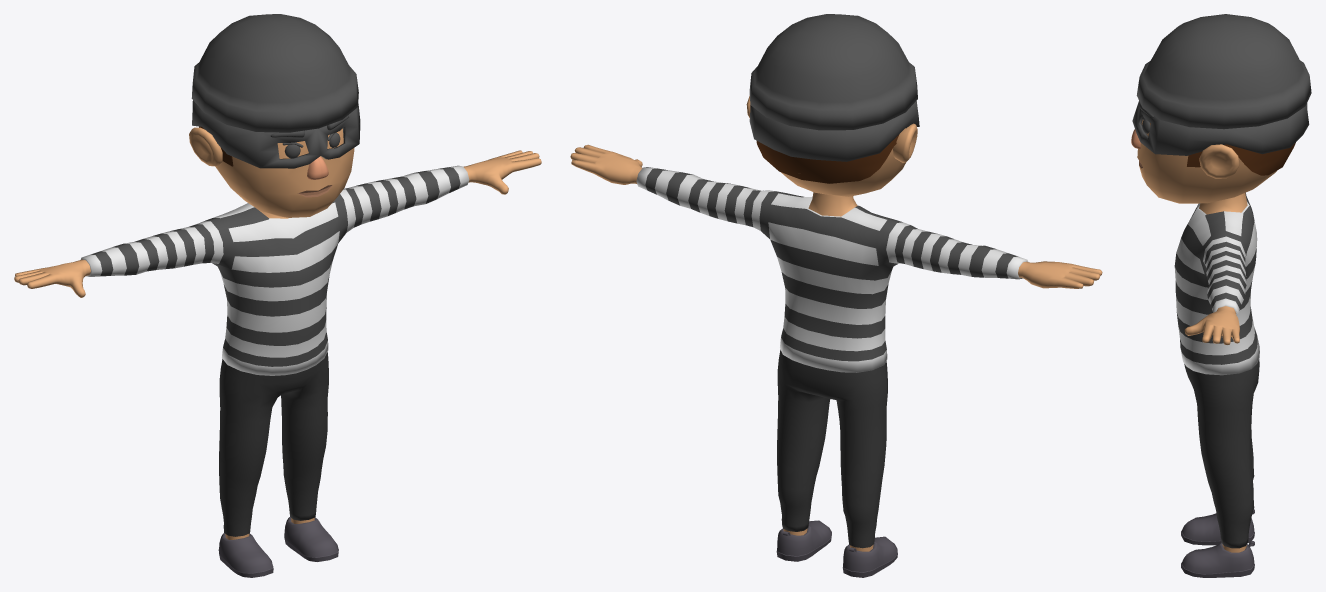
The model's file is thief.glb.
3 renders of one model, left to right at view 1: azimuth 30°, elevation 25°; view 2: azimuth 150°, elevation 25°; view 3: azimuth 270°, elevation 25°, orthographic.
Visible parts, largest first — view 1: Thief, Body; view 2: Thief, Body; view 3: Thief, Body.
Part boxes in pixels (x1,y1,x2,y2): Thief: [80, 14, 469, 536]; Body: [14, 115, 541, 577]; Thief: [636, 14, 1028, 548]; Body: [570, 95, 1102, 577]; Thief: [1132, 14, 1311, 548]; Body: [1131, 102, 1277, 577].
Size of the model in its own units: 1.54 by 1.51 by 0.4616.
